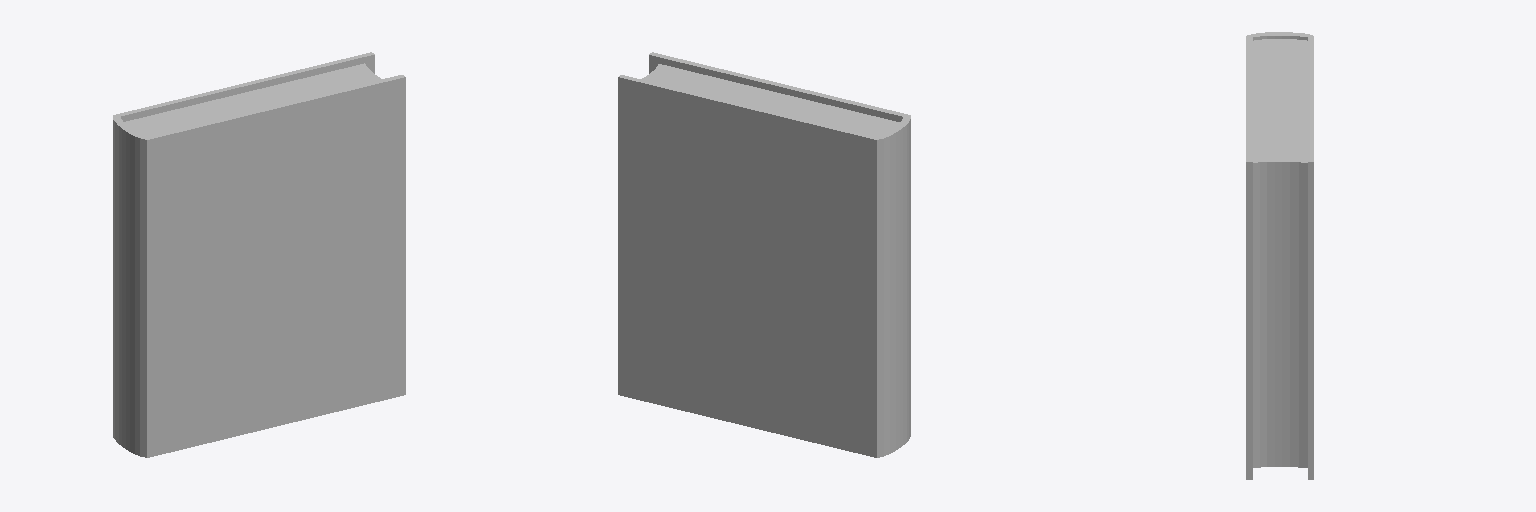
File: book.obj
The picture shows the model from 3 angles: view 1: azimuth 30°, elevation 25°; view 2: azimuth 150°, elevation 25°; view 3: azimuth 270°, elevation 25°; orthographic projection.
Visible parts, largest first — view 1: Cube; view 2: Cube; view 3: Cube.
Part boxes in pixels (bbox=[...]): Cube: bbox=[113, 52, 405, 457]; Cube: bbox=[618, 52, 910, 457]; Cube: bbox=[1246, 32, 1313, 479].
Bounding box in the file's own units: 8.27 × 9.47 × 1.84.